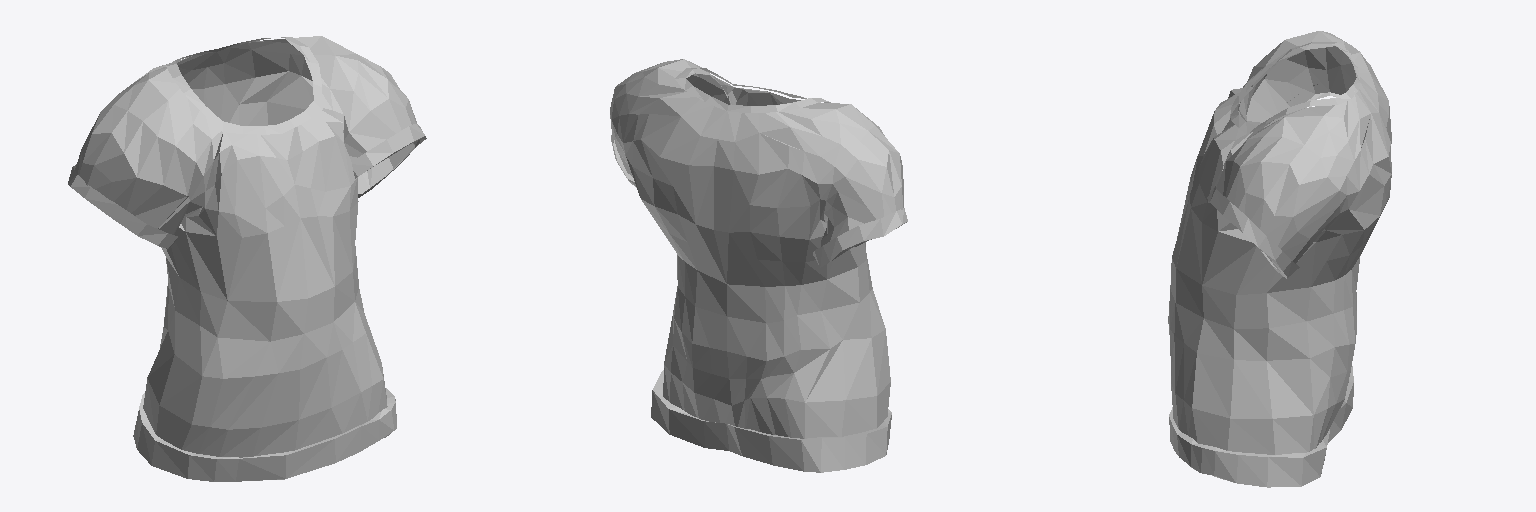
File: DwarfShirt.obj
3 renders of one model, left to right at view 1: azimuth 30°, elevation 25°; view 2: azimuth 150°, elevation 25°; view 3: azimuth 270°, elevation 25°, orthographic.
Parts seen in each view (by area): view 1: default; view 2: default; view 3: default.
Boxes of the visible parts, x1=… form: default: x1=68, y1=36, x2=426, y2=481; default: x1=610, y1=59, x2=907, y2=472; default: x1=1168, y1=31, x2=1391, y2=487.
Bounding box in the file's own units: 1.01 × 1.12 × 0.6111.